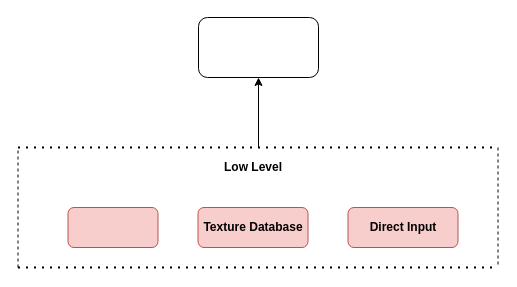
Image size: 517x287. Some labels were removed from this diagram. Each missing label, with the centre of its shape:
Engine: the point at 112,227
Main: the point at 258,47
